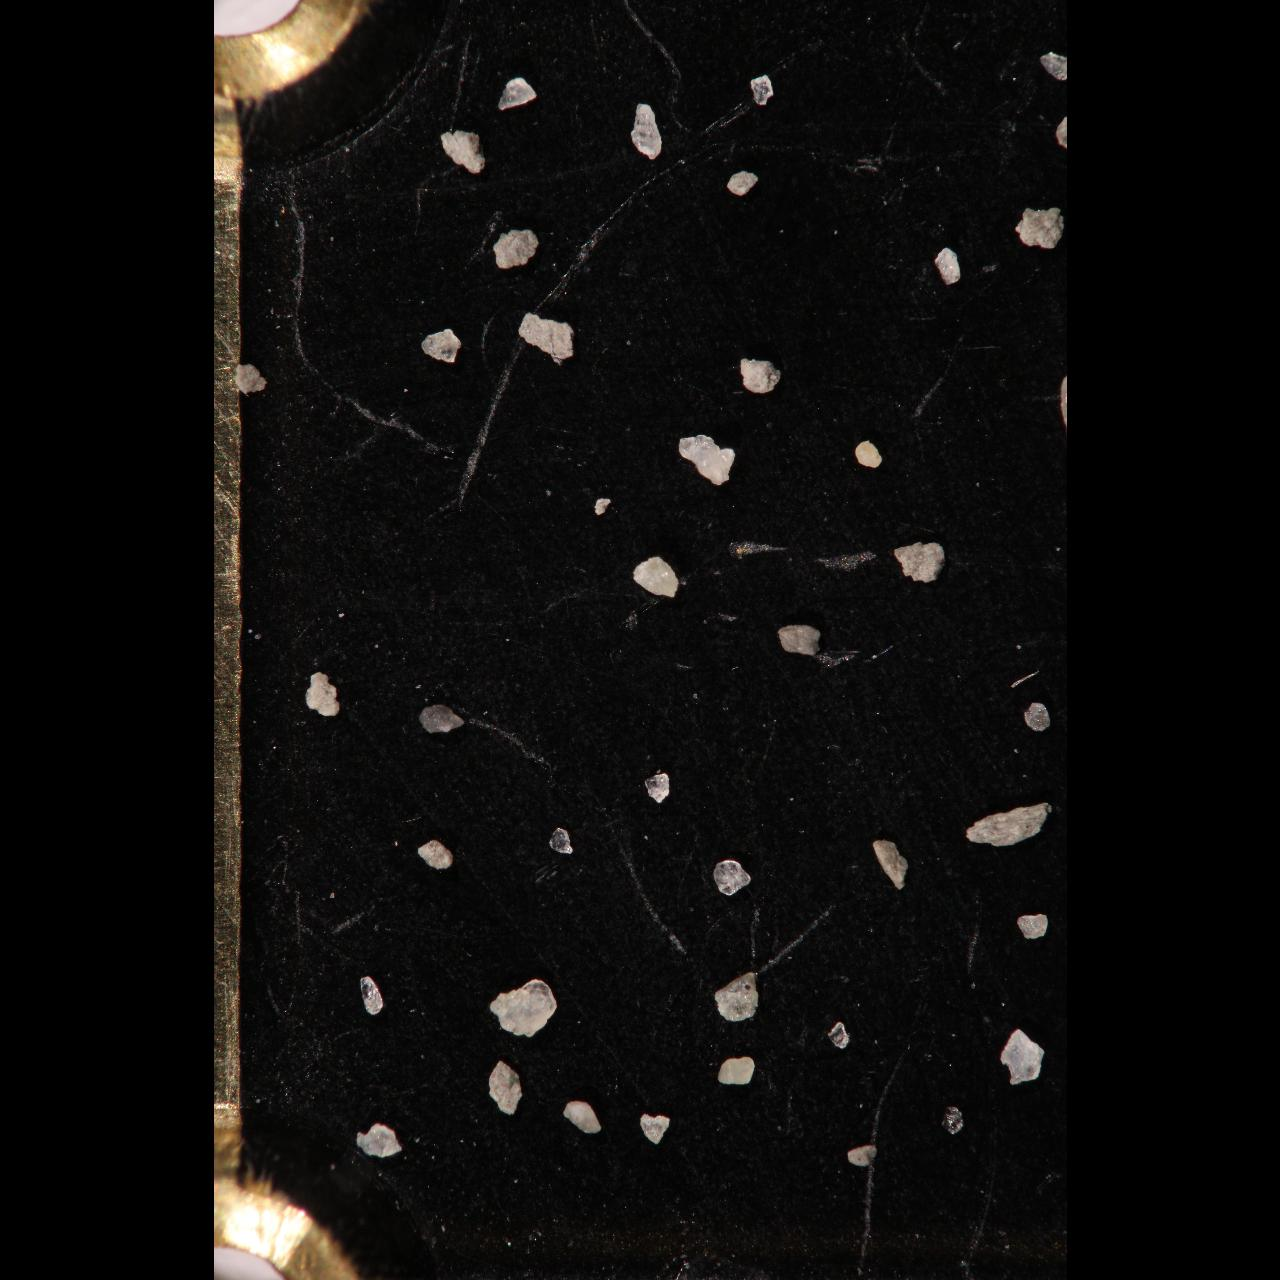Sediment: (489, 978, 559, 1037), (965, 801, 1051, 849), (517, 309, 576, 365), (678, 434, 736, 484), (1000, 1027, 1046, 1087), (892, 540, 947, 584), (714, 969, 758, 1022), (1016, 204, 1065, 250), (631, 556, 680, 599), (440, 129, 486, 173), (871, 837, 910, 891), (489, 1060, 524, 1117), (491, 229, 539, 270), (631, 102, 661, 163), (304, 672, 342, 719), (354, 1121, 403, 1157), (736, 356, 782, 394), (777, 622, 823, 658), (416, 703, 465, 735), (713, 856, 751, 896), (421, 327, 461, 365), (564, 1098, 602, 1136), (497, 76, 537, 113), (715, 1055, 755, 1085), (358, 974, 384, 1016), (638, 1112, 670, 1146), (417, 839, 452, 871), (935, 246, 962, 287), (234, 363, 267, 395), (747, 73, 775, 109), (1015, 913, 1049, 941), (642, 771, 669, 804), (855, 440, 883, 470), (1023, 701, 1050, 733), (724, 170, 757, 196), (825, 1021, 851, 1051), (846, 1144, 878, 1169), (1042, 50, 1067, 80), (549, 825, 573, 855), (944, 1105, 965, 1137), (594, 497, 612, 516)
